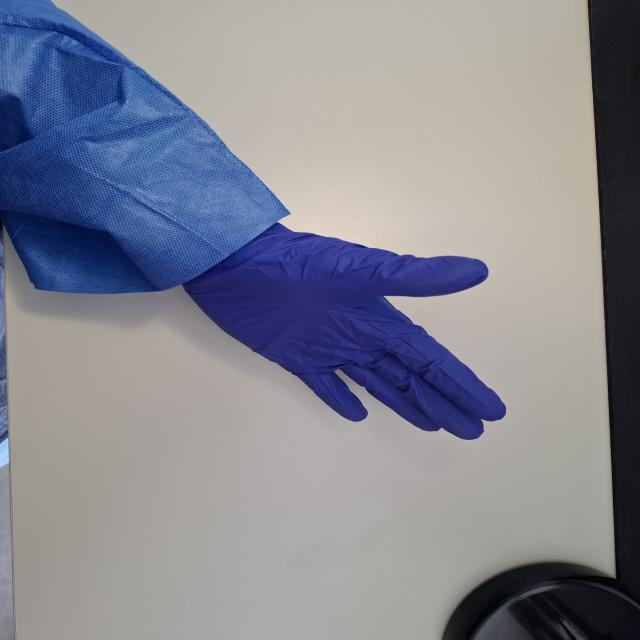glove_on: (183, 216, 509, 444)
